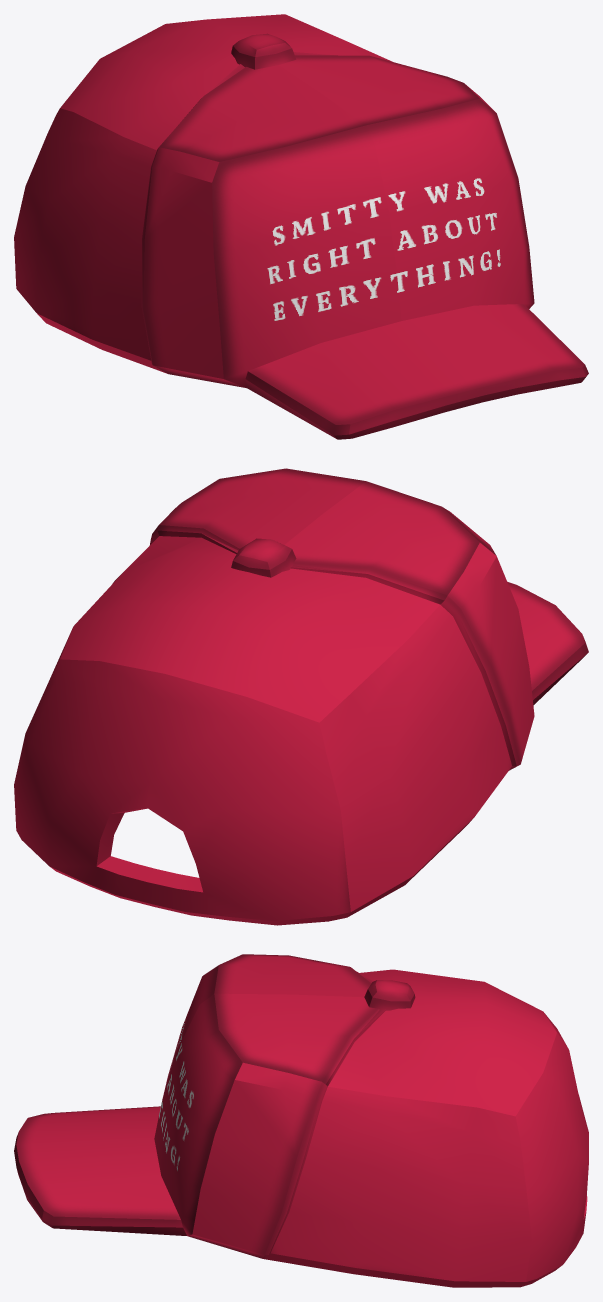
Rendered from hat-SF2025.glb.
The picture shows the model from 3 angles, top to bottom: view 1: azimuth 30°, elevation 25°; view 2: azimuth 150°, elevation 25°; view 3: azimuth 270°, elevation 25°; orthographic projection. The views are drawn at different scales.
Parts seen in each view (by area): view 1: Trucker Hat; view 2: Trucker Hat; view 3: Trucker Hat.
Part boxes in pixels (x1,y1,x2,y2): Trucker Hat: (14, 14, 588, 439); Trucker Hat: (14, 468, 588, 925); Trucker Hat: (14, 954, 588, 1287).
Bounding box in the file's own units: 0.2182 × 0.1538 × 0.333.
1 material, 1 textured.
